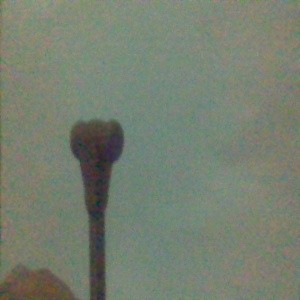palu: (69, 118, 125, 300)
